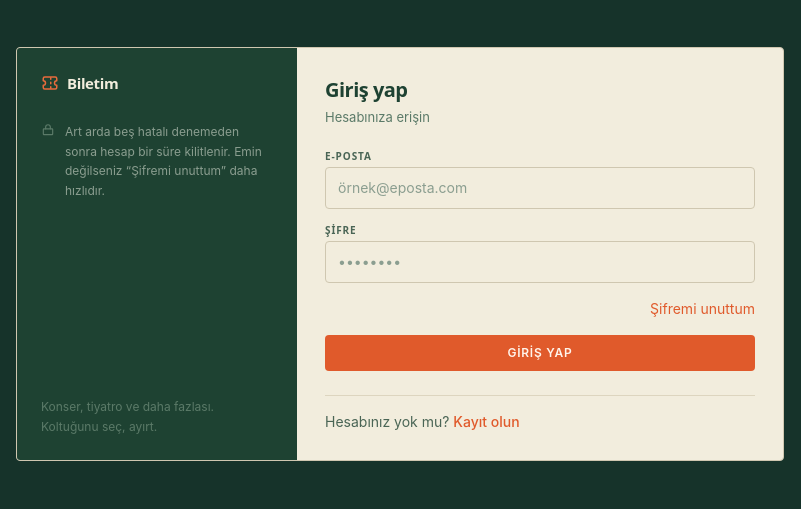
Test: LoginPage › sunucu hatası ekranda gösterilir
Type "test@ornek.com" into the field labelled "E-posta" at (540, 188), box [325,167,755,209]
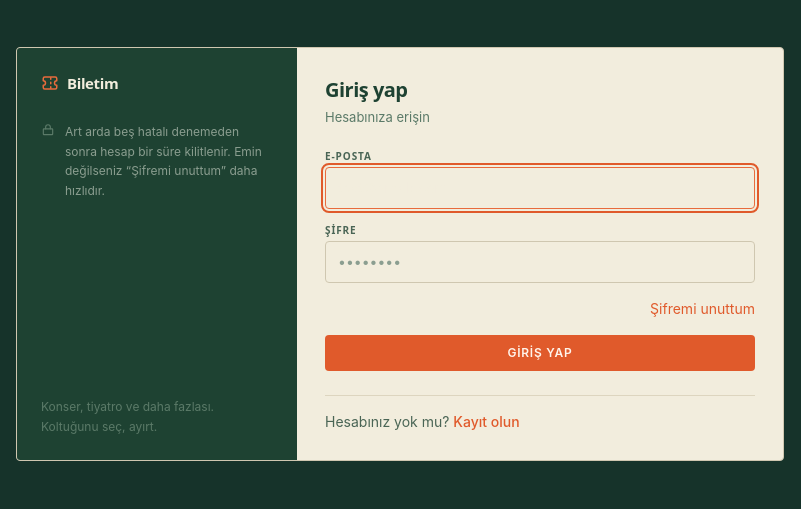
Type "YanlisSifre1!" into the password field labelled "Şifre" at (540, 262), box [325,241,755,283]
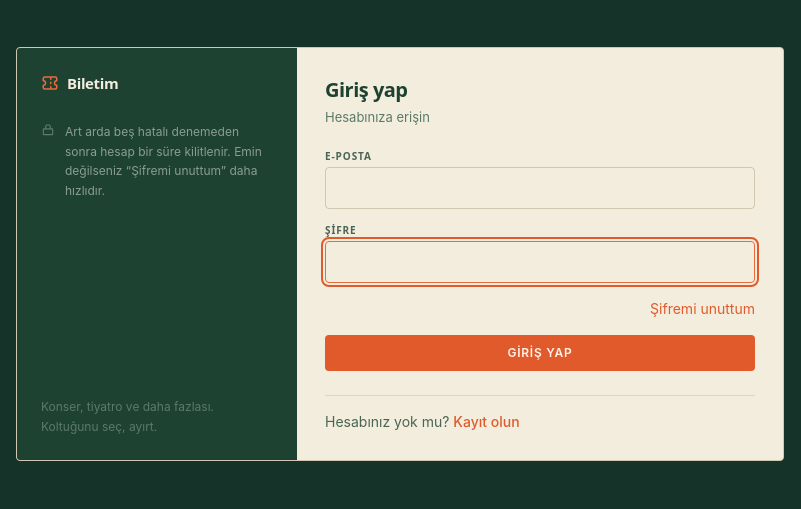
Click the button "Giriş yap" at (540, 353), box [325,335,755,371]
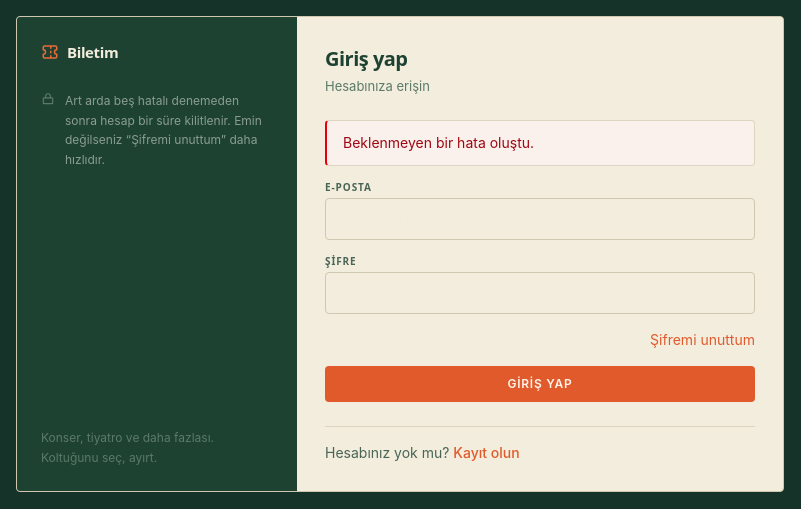
Now the message "Beklenmeyen bir hata oluştu." is shown, box [325,120,755,166]
